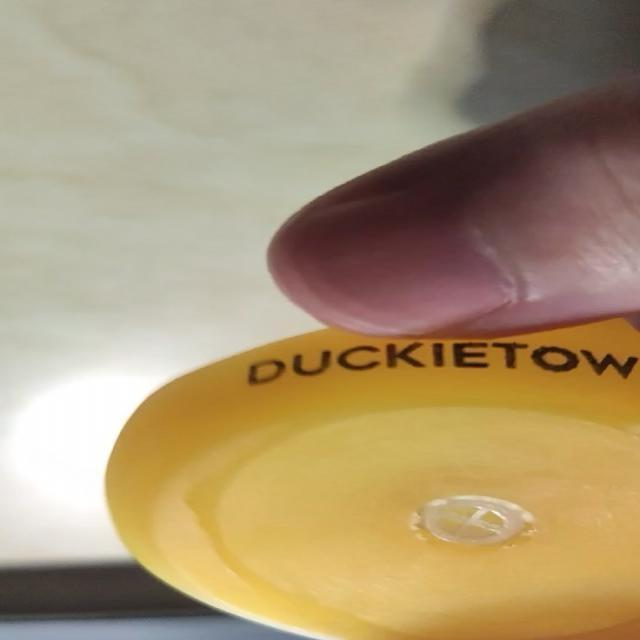rubber-duck: (105, 318, 638, 638)
